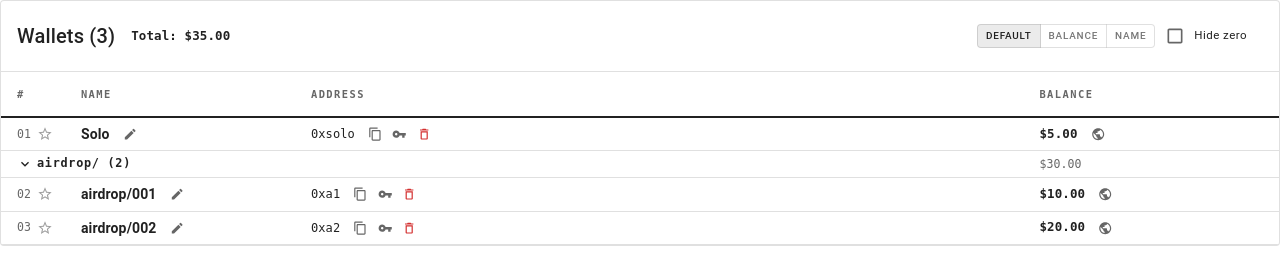
Test: WalletTable › slash-named wallets fold into a collapsible group with subtotal
Expected: the text "$30.00" is shown, [1039,157,1082,171]
Expected: the text "airdrop/001" is shown, [81,184,156,204]
// Collapsing hides the grouped rows but keeps ungrouped ones
Click the text "airdrop/ (2)" at (84, 164), box [37,155,131,173]
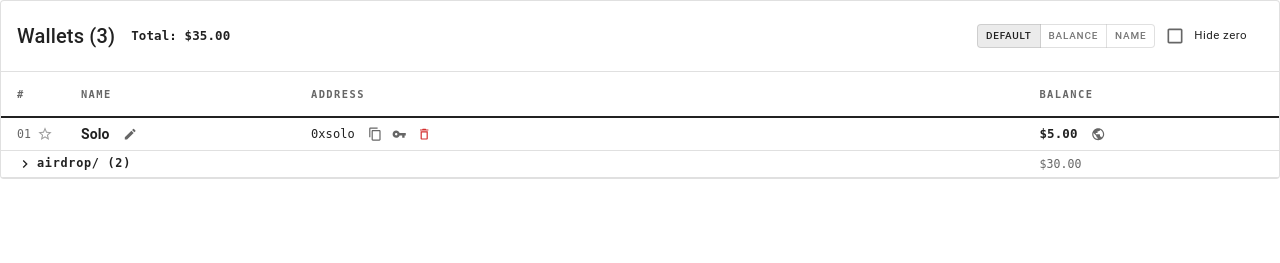
Expected: the text "Solo" is shown, [81,124,110,144]
Now the text "airdrop/001" is gone
Now the text "airdrop/002" is gone
// Expand again
Click the text "airdrop/ (2)" at (84, 164), box [37,155,131,173]
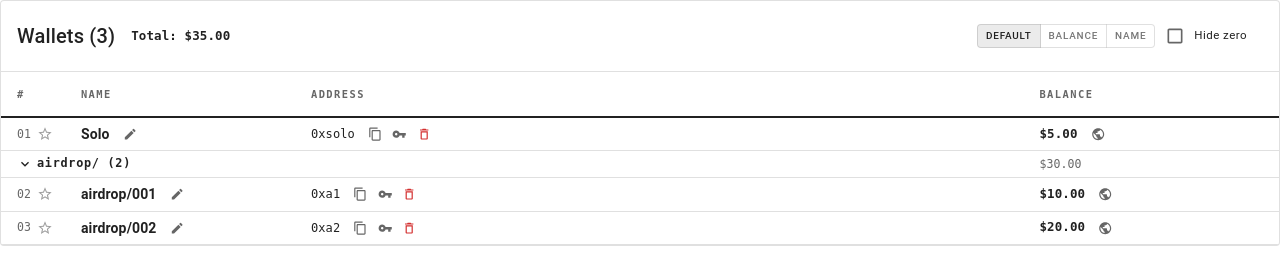
Now the text "airdrop/001" is shown, box [81,184,156,204]
